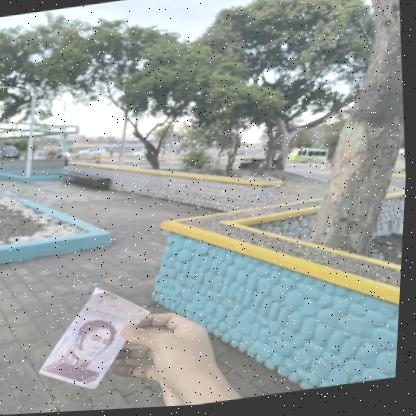one_hundred-front-vef: (34, 280, 162, 399)
